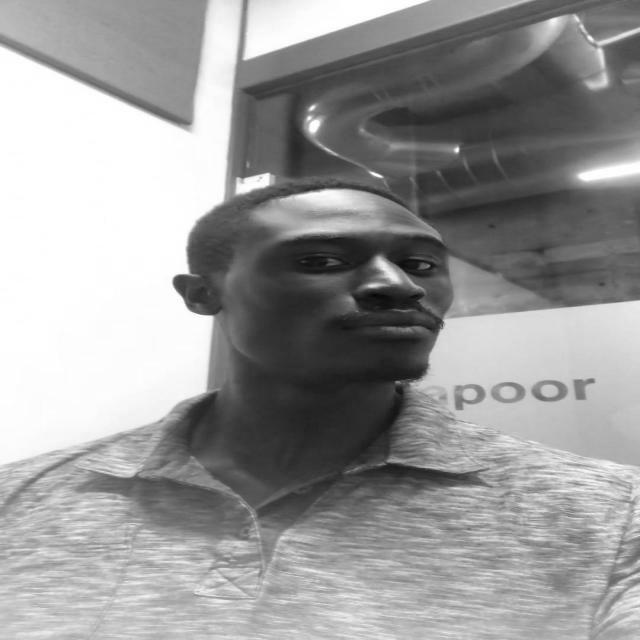real: (172, 188, 456, 382)
